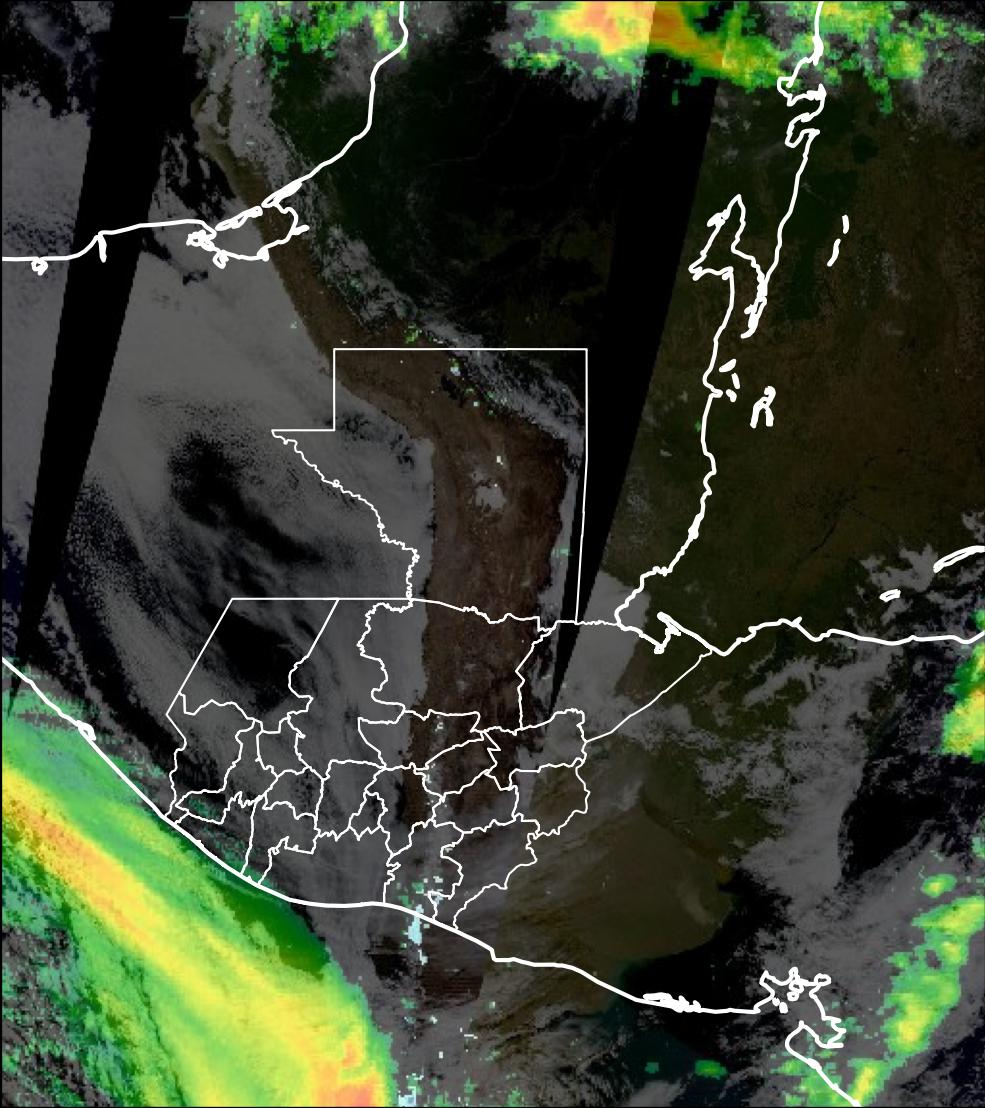precipitacion: (549, 1, 739, 92), (279, 1006, 387, 1108)
